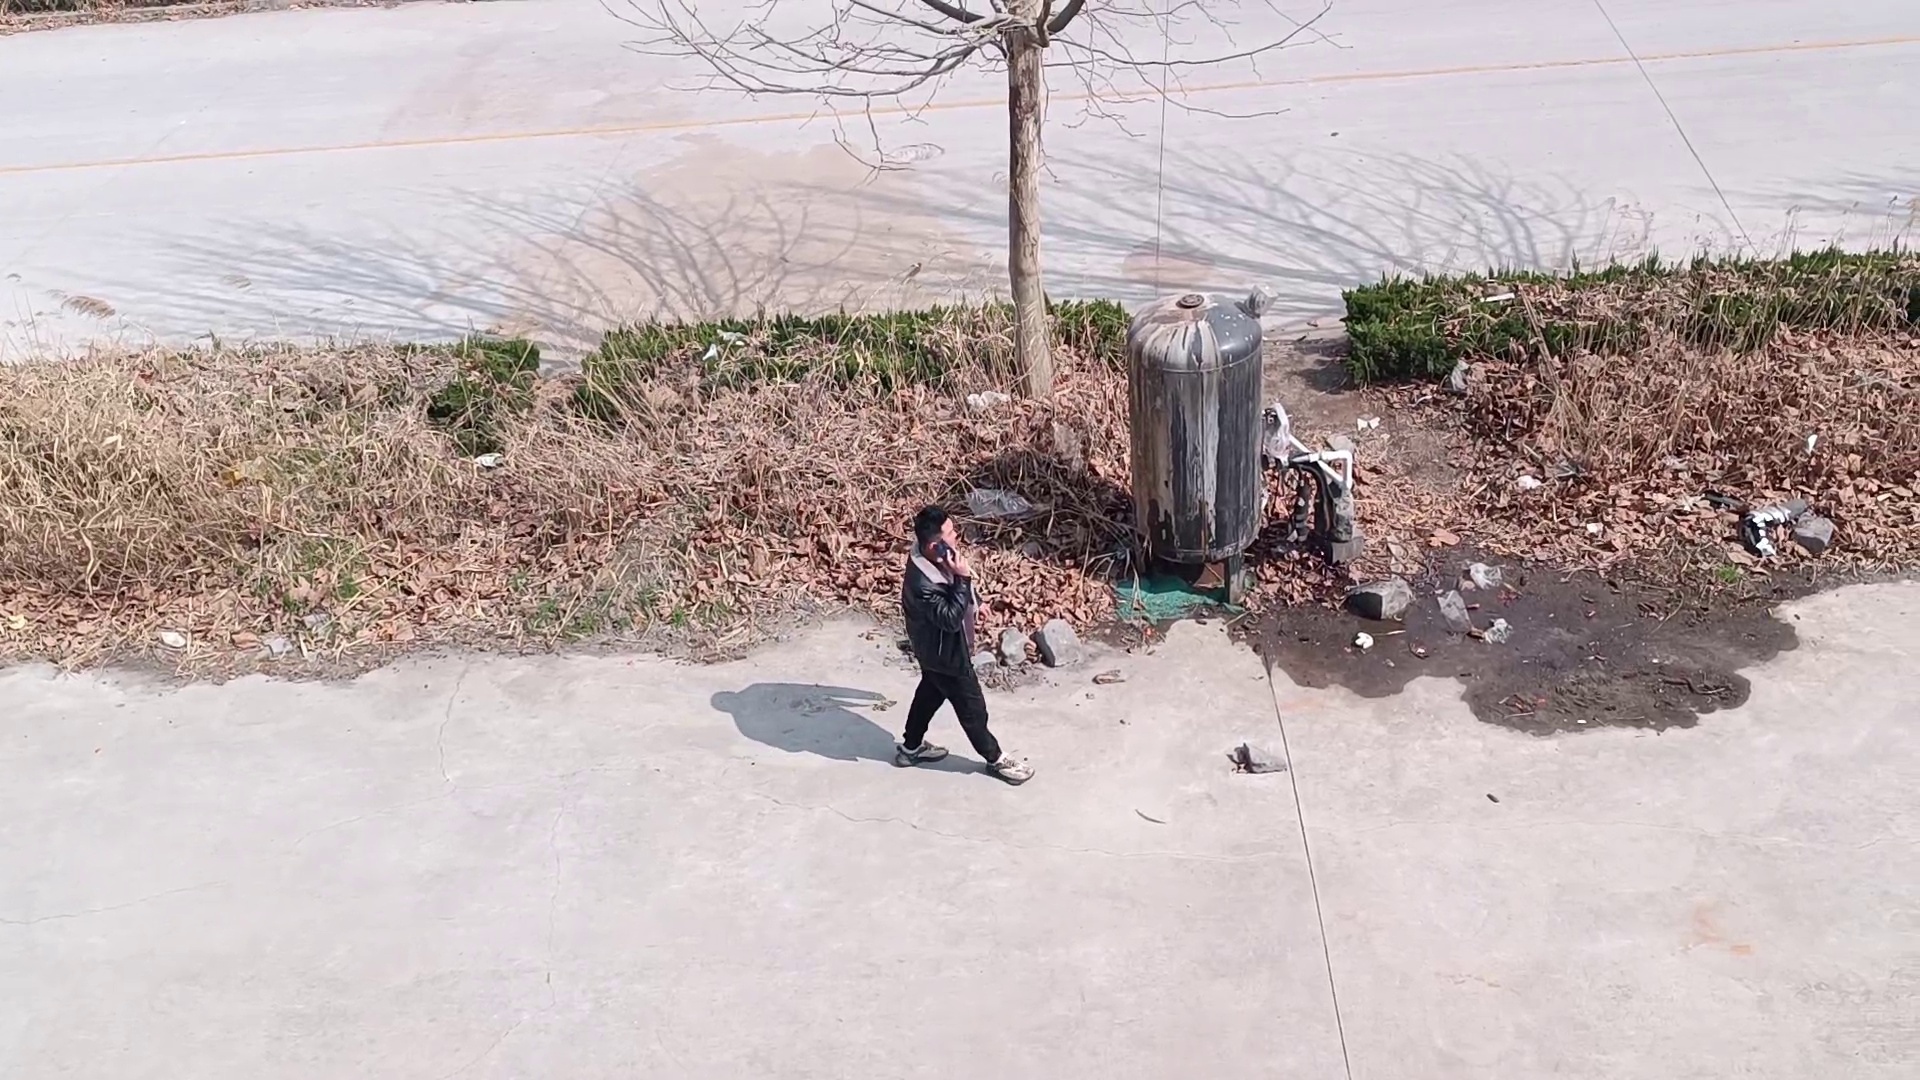phone: (891, 506, 957, 575)
